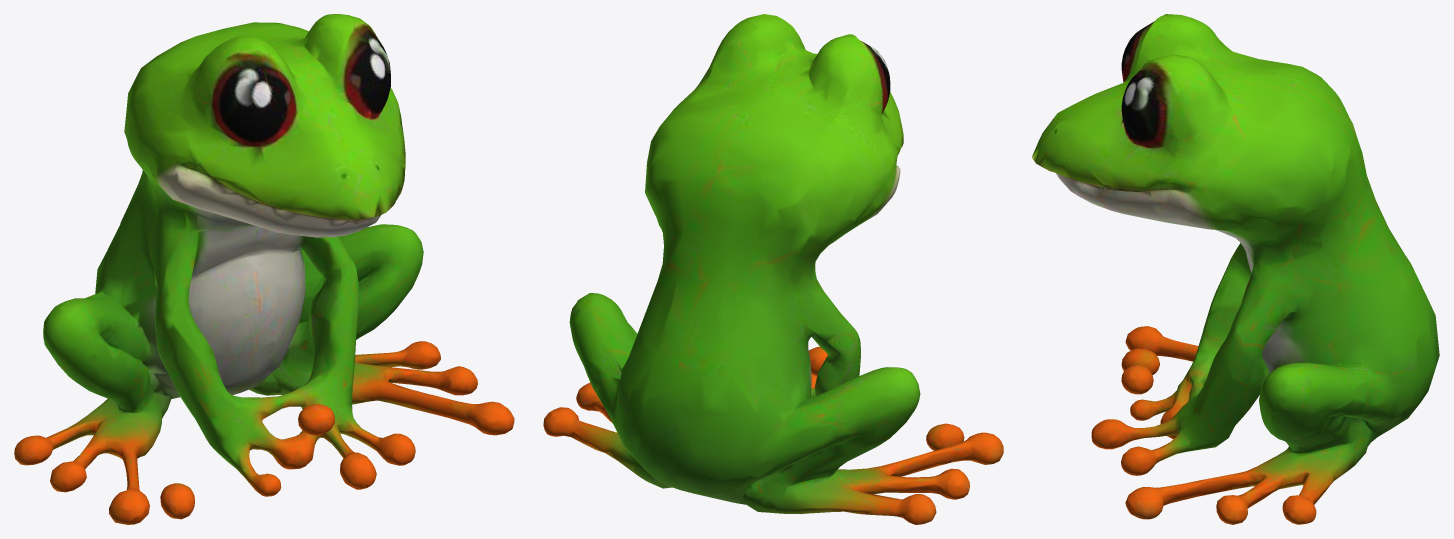
The model's file is frog.glb.
The picture shows the model from 3 angles, left to right: view 1: azimuth 30°, elevation 25°; view 2: azimuth 150°, elevation 25°; view 3: azimuth 270°, elevation 25°; orthographic projection. The views are drawn at different scales.
Size of the model in its own units: 1.9 by 1.89 by 1.73.
1 material, 1 textured.
